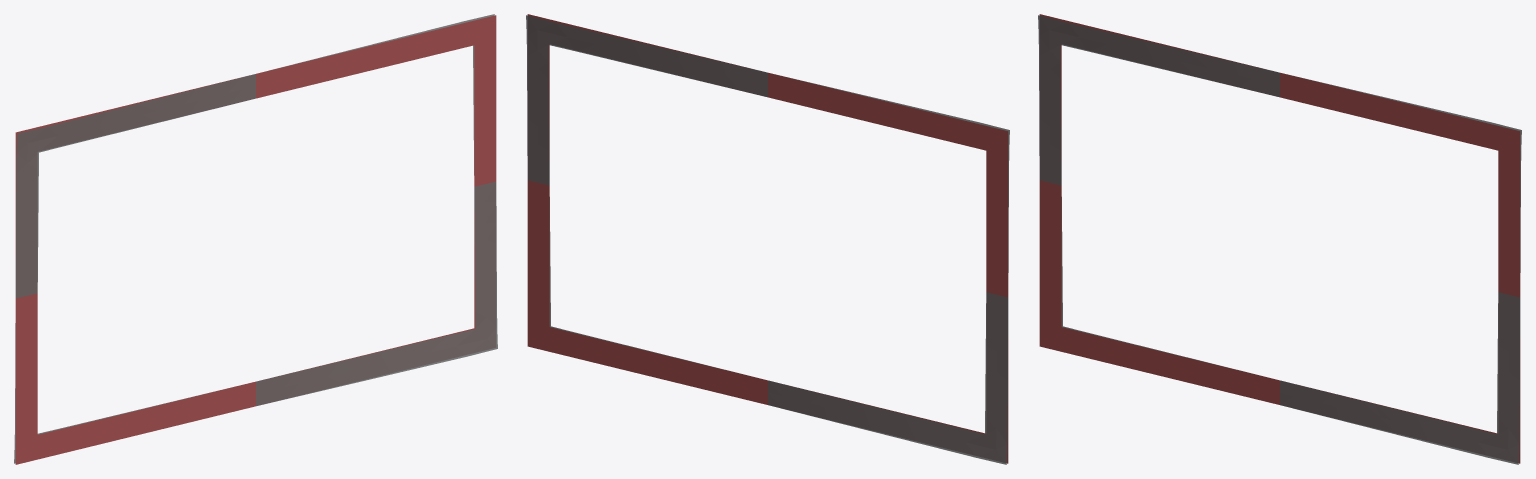
The model's file is warping-box-115-174-9-8-252.glb.
The picture shows the model from 3 angles, left to right: view 1: azimuth 30°, elevation 25°; view 2: azimuth 150°, elevation 25°; view 3: azimuth 330°, elevation 25°; orthographic projection.
Visible parts, largest first — view 1: undeformed cross-section, cross-section with warping; view 2: undeformed cross-section, cross-section with warping; view 3: undeformed cross-section, cross-section with warping.
Boxes of the visible parts, x1,y1,x2,y2 form: undeformed cross-section: (15,15,496,464); cross-section with warping: (14,14,497,463); undeformed cross-section: (527,14,1008,463); cross-section with warping: (526,15,1009,464); undeformed cross-section: (1039,14,1520,463); cross-section with warping: (1038,15,1521,464).
Bounding box in the file's own units: 0.174 × 0.115 × 0.00242.
